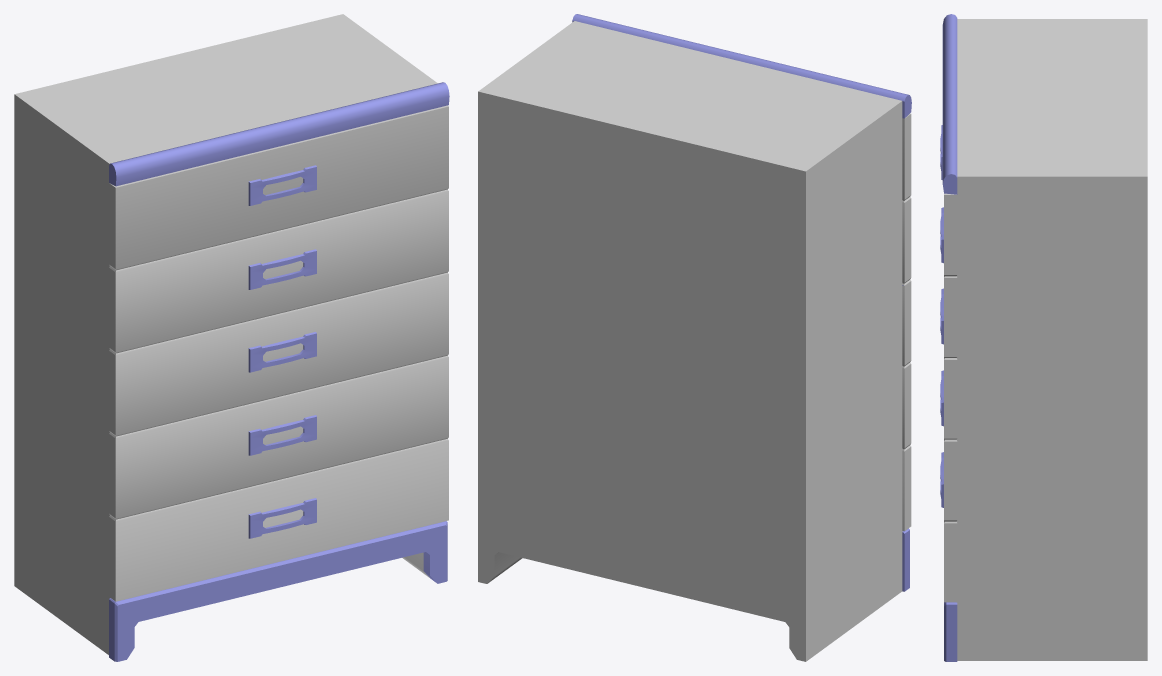
3 renders of one model, left to right at view 1: azimuth 30°, elevation 25°; view 2: azimuth 150°, elevation 25°; view 3: azimuth 270°, elevation 25°, orthographic.
Visible parts, largest first — view 1: YC805B; view 2: YC805B; view 3: YC805B.
Boxes of the visible parts, x1,y1,x2,y2 form: YC805B: (14,14,449,661); YC805B: (478,14,911,661); YC805B: (940,14,1147,661).
Size of the model in its own units: 67.5 by 37 by 96.
